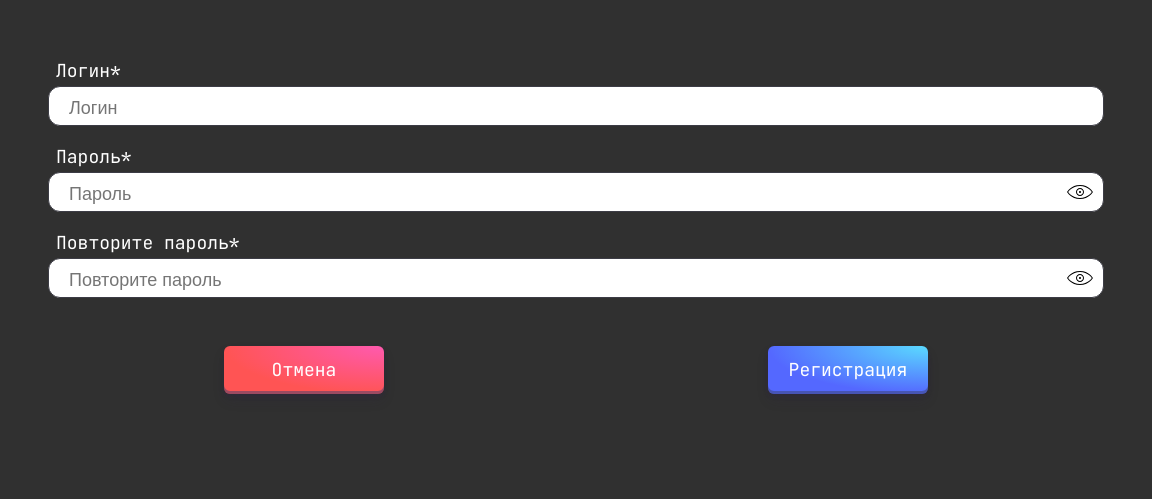
Scenario: AuthModal Register component tests › Submit showed error because inputs were empty
Click the button "Регистрация". click: (848, 370)
box: 768,346 -> 928,394
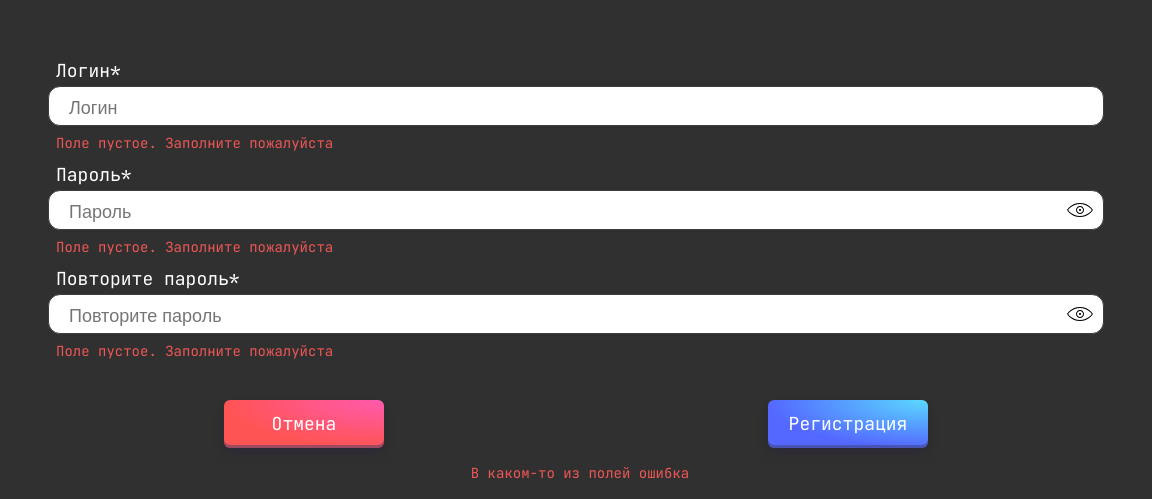
Result: the text "В каком-то из полей ошибка" is shown at 463,464 -> 689,482
